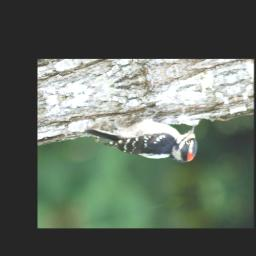Woodpecker: (80, 100, 205, 186)
